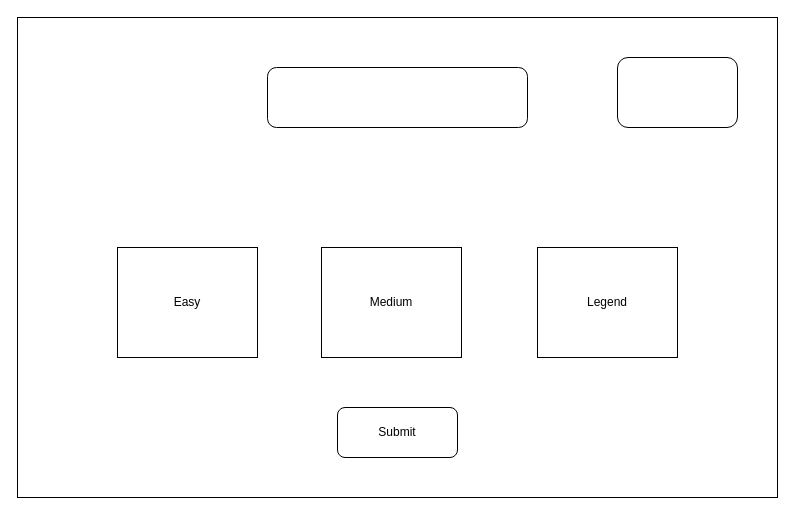
Image size: 795x515. Some labels were removed from this diagram. Each missing label, with the centre of its shape:
"Choix mode de jeu" belongs at (x=397, y=97).
"Pseudo Niveau Points" belongs at (x=677, y=92).
